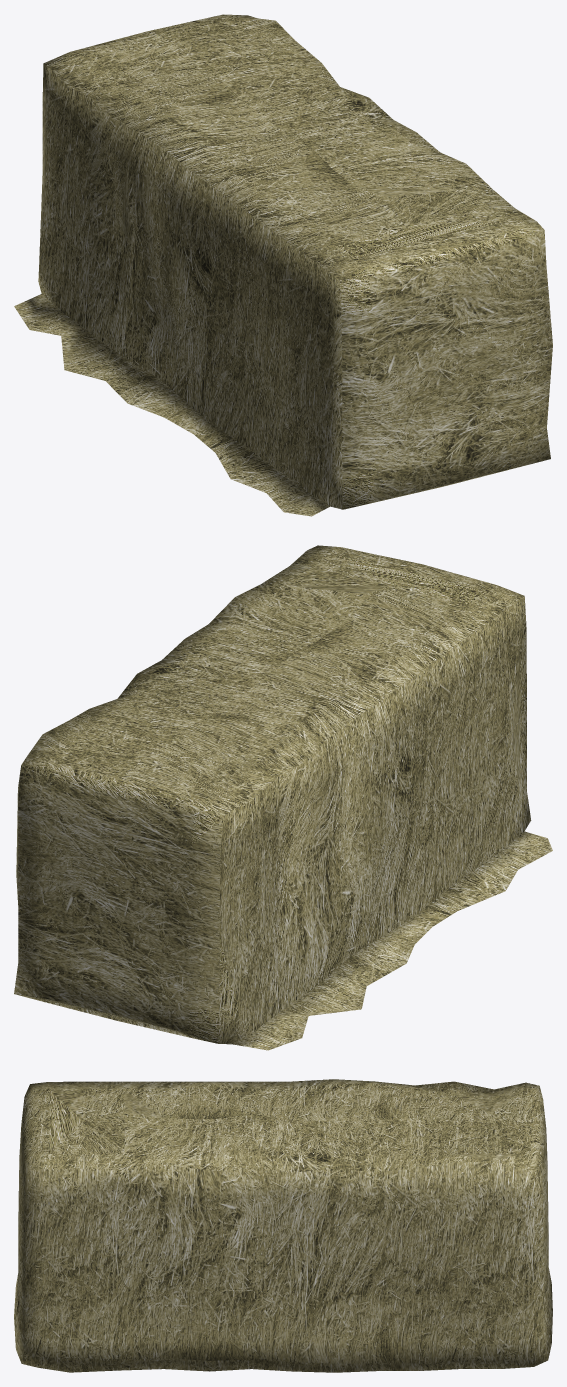
File: hay_bale.fbx
3 renders of one model, top to bottom at view 1: azimuth 30°, elevation 25°; view 2: azimuth 150°, elevation 25°; view 3: azimuth 270°, elevation 25°, orthographic. The views are drawn at different scales.
Visible parts, largest first — view 1: Cube; view 2: Cube; view 3: Cube.
Boxes of the visible parts, x1,y1,x2,y2 form: Cube: (14, 14, 552, 516); Cube: (14, 545, 552, 1050); Cube: (14, 1079, 552, 1372).
Size of the model in its own units: 260 by 228 by 513.
